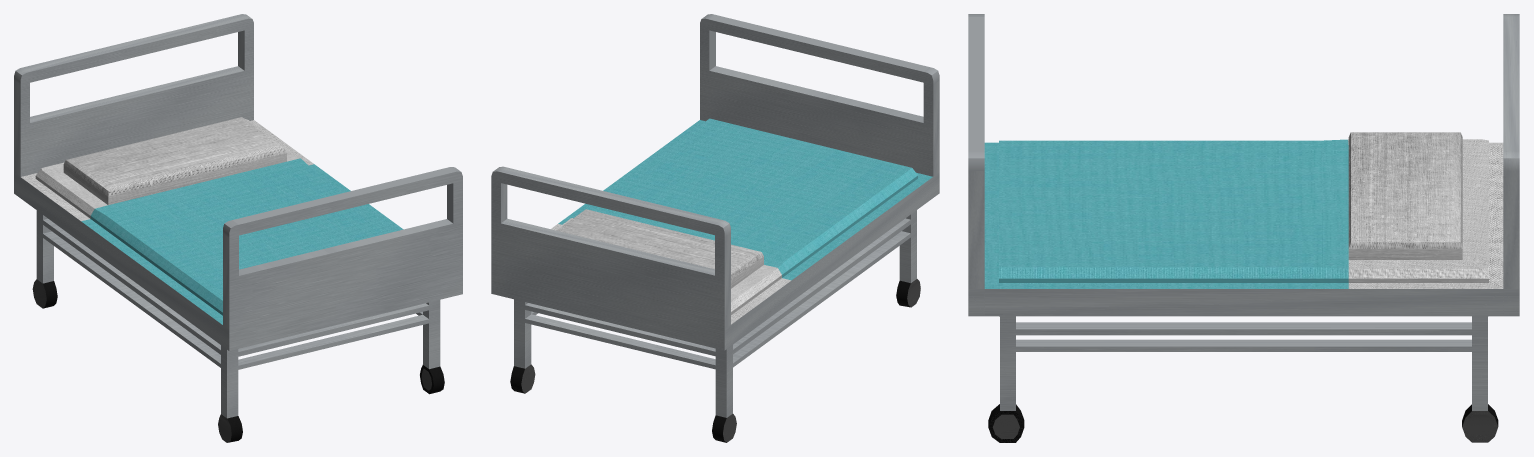
Rendered from Hospital_bed.FBX.
3 renders of one model, left to right at view 1: azimuth 30°, elevation 25°; view 2: azimuth 150°, elevation 25°; view 3: azimuth 270°, elevation 25°, orthographic. The views are drawn at different scales.
Parts seen in each view (by area): view 1: Box001; view 2: Box001; view 3: Box001.
Boxes of the visible parts, bbox=[...] form: Box001: bbox=[14, 14, 462, 442]; Box001: bbox=[491, 14, 939, 442]; Box001: bbox=[968, 14, 1519, 442].
Size of the model in its own units: 60 by 55.95 by 95.73.
Materials: 6 (6 with a texture image).
